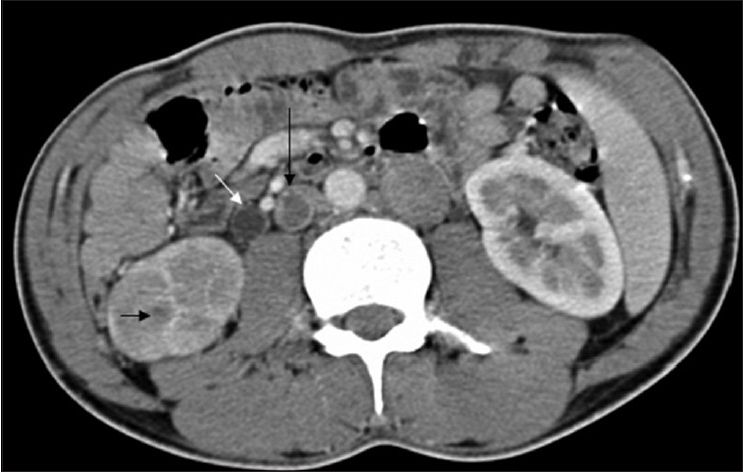anomaly: (274, 190, 317, 229)
